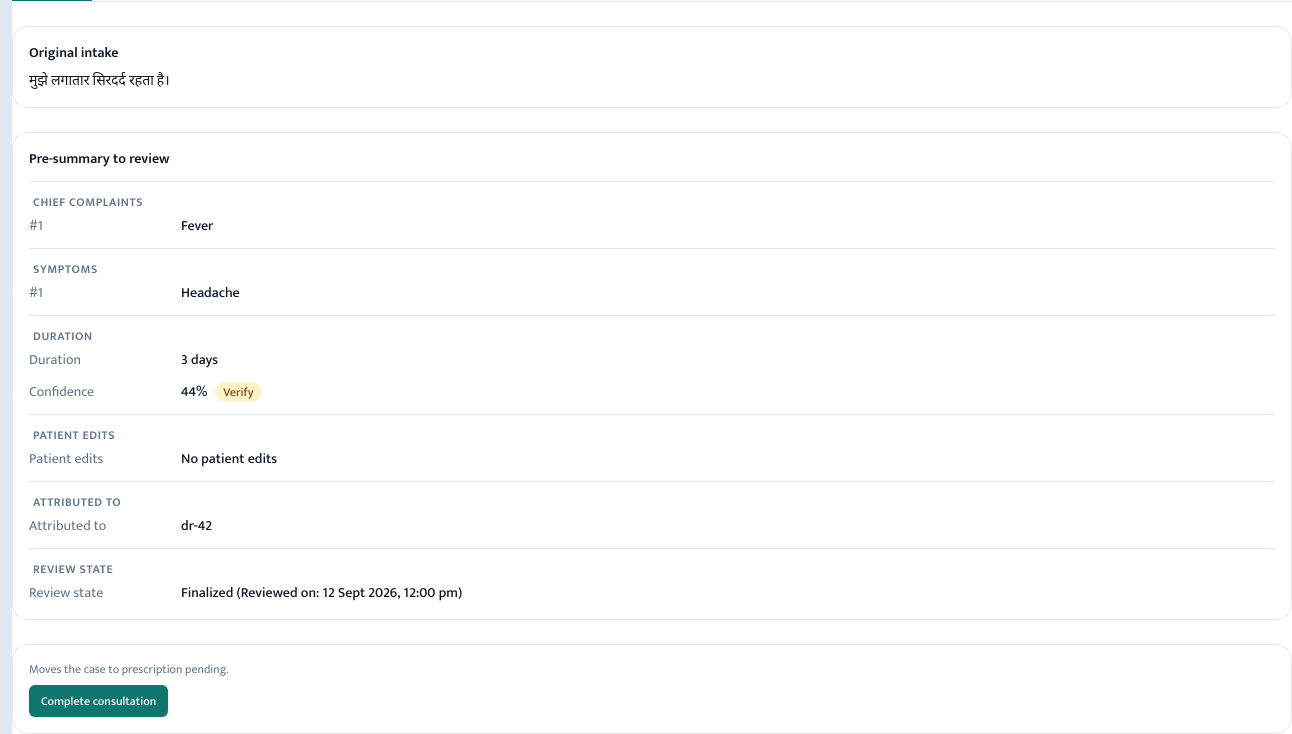
Test: CaseWorkspacePage handshake (US-24) › surfaces a failure message when the handshake errors
The width and height of the screenshot is (1292, 734).
(page scrolled)
Click the button with test id "handshake-action".
click(99, 701)  # box [29,685,168,717]
(page scrolled)
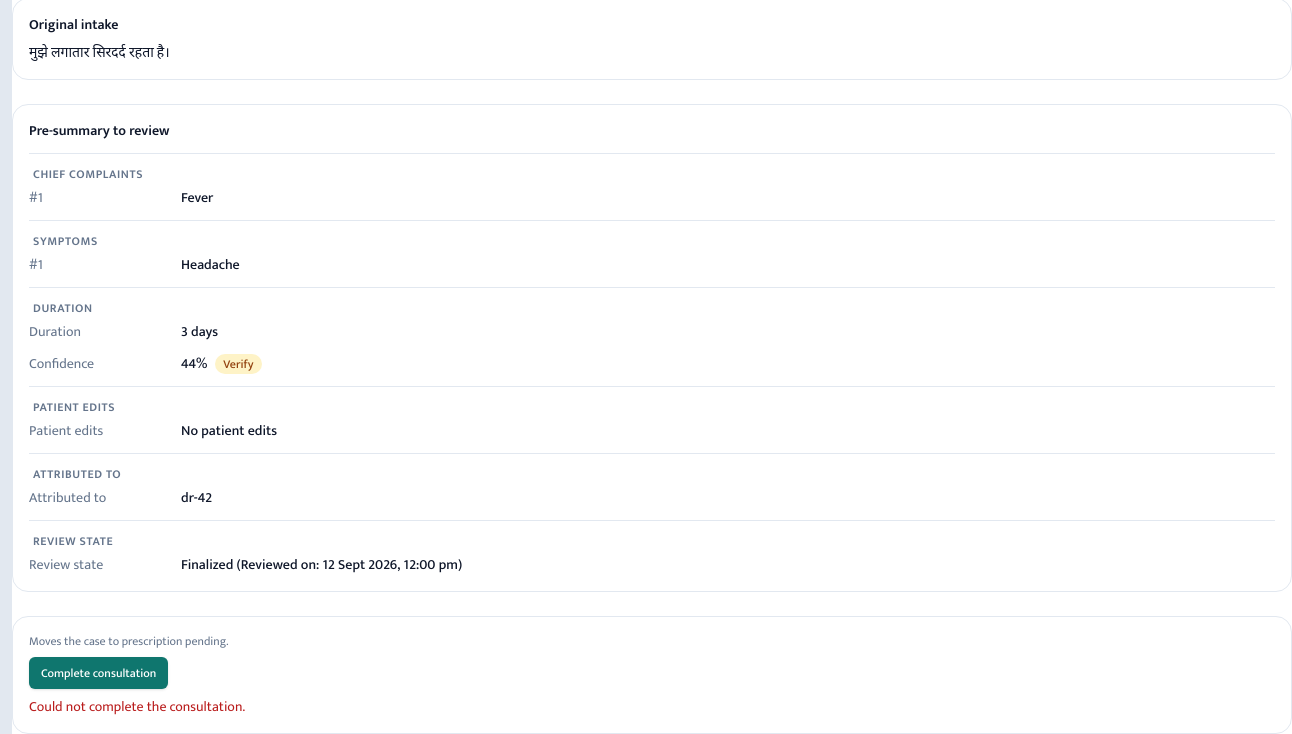
Expected: the text "Could not complete the consultation." is shown, [29,695,245,718]
